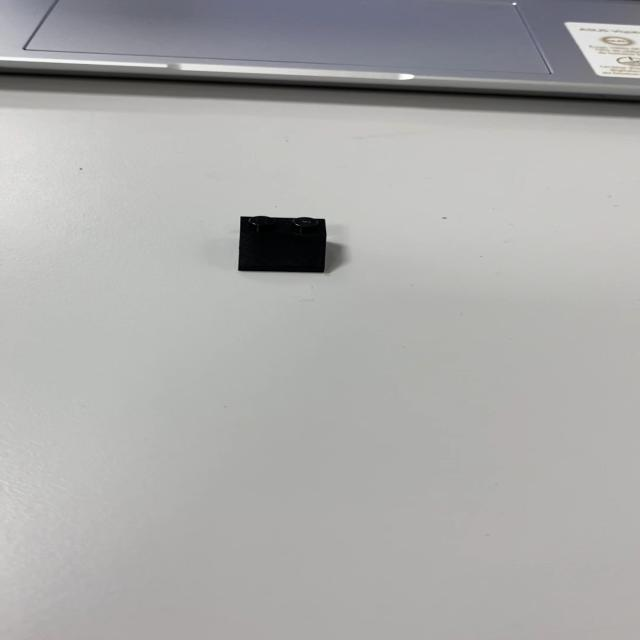P2x2x1: (236, 214, 328, 273)
